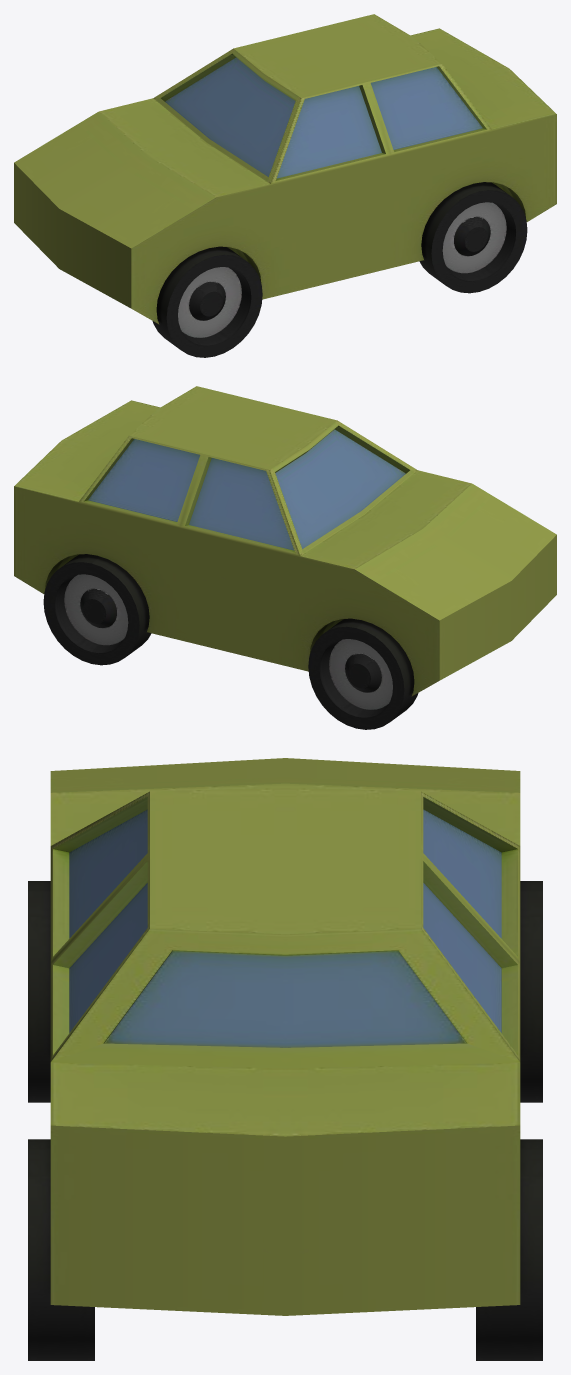
File: yellow_car.obj
The picture shows the model from 3 angles, top to bottom: view 1: azimuth 30°, elevation 25°; view 2: azimuth 150°, elevation 25°; view 3: azimuth 270°, elevation 25°; orthographic projection. The views are drawn at different scales.
Parts seen in each view (by area): view 1: Yellow_Car; view 2: Yellow_Car; view 3: Yellow_Car.
Boxes of the visible parts, x1,y1,x2,y2 form: Yellow_Car: [14, 14, 556, 357]; Yellow_Car: [14, 386, 556, 729]; Yellow_Car: [28, 758, 542, 1360].
Size of the model in its own units: 5.22 by 2.3 by 2.59.
Materials: 1 (1 with a texture image).
